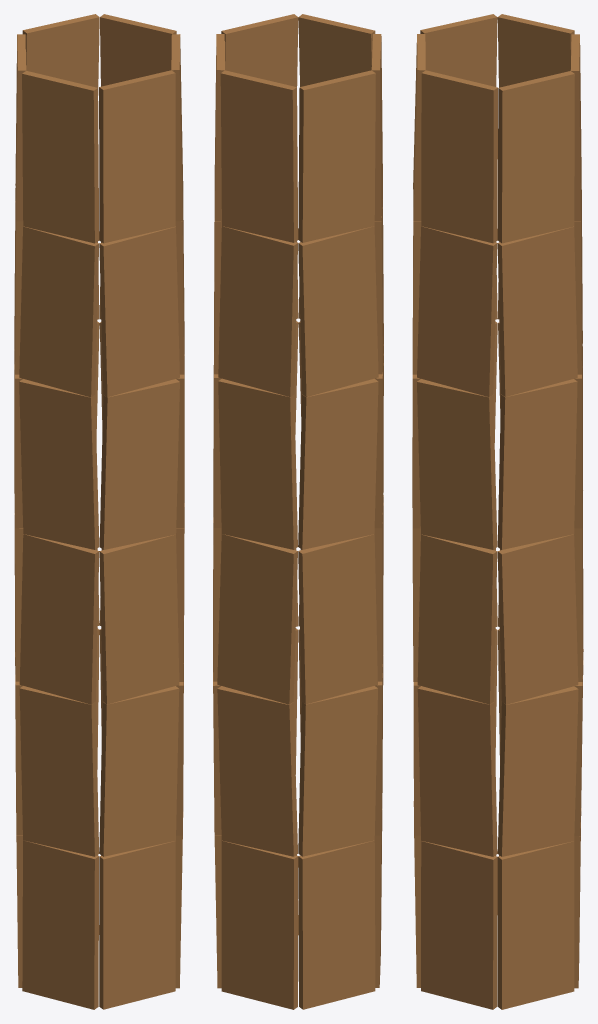
3 renders of one model, left to right at view 1: azimuth 30°, elevation 25°; view 2: azimuth 150°, elevation 25°; view 3: azimuth 270°, elevation 25°, orthographic.
Parts seen in each view (by area): view 1: Tile_29, Tile_23, Tile_27, Tile_28, Tile_26, Tile_25, Tile_22, Tile_21, Tile_20, Tile_19, Tile_24, Tile_18 (+14 smaller); view 2: Tile_17, Tile_11, Tile_15, Tile_8, Tile_16, Tile_9, Tile_14, Tile_10, Tile_13, Tile_7, Tile_12, Tile_6 (+15 smaller); view 3: Tile_35, Tile_5, Tile_3, Tile_2, Tile_33, Tile_1, Tile_34, Tile_4, Tile_0, Tile_32, Tile_31, Tile_30 (+14 smaller).
Boxes of the visible parts, left/top/right/bottom form: Tile_29: left=99, top=70, right=175, bottom=243; Tile_23: left=22, top=71, right=99, bottom=243; Tile_27: left=99, top=379, right=179, bottom=549; Tile_28: left=99, top=226, right=179, bottom=397; Tile_26: left=99, top=534, right=179, bottom=704; Tile_25: left=99, top=686, right=179, bottom=856; Tile_22: left=19, top=226, right=99, bottom=397; Tile_21: left=19, top=379, right=99, bottom=549; Tile_20: left=19, top=534, right=99, bottom=704; Tile_19: left=19, top=686, right=99, bottom=856; Tile_24: left=99, top=841, right=175, bottom=1009; Tile_18: left=22, top=840, right=98, bottom=1009; Tile_17: left=298, top=70, right=375, bottom=242; Tile_11: left=220, top=70, right=298, bottom=242; Tile_15: left=298, top=378, right=378, bottom=549; Tile_8: left=217, top=534, right=297, bottom=704; Tile_16: left=298, top=226, right=378, bottom=396; Tile_9: left=218, top=378, right=297, bottom=549; Tile_14: left=298, top=534, right=377, bottom=704; Tile_10: left=218, top=226, right=297, bottom=396; Tile_13: left=298, top=686, right=377, bottom=856; Tile_7: left=217, top=686, right=297, bottom=856; Tile_12: left=298, top=840, right=375, bottom=1009; Tile_6: left=221, top=840, right=298, bottom=1009; Tile_35: left=421, top=70, right=497, bottom=243; Tile_5: left=497, top=71, right=574, bottom=243; Tile_3: left=497, top=379, right=577, bottom=549; Tile_2: left=497, top=534, right=578, bottom=704; Tile_33: left=417, top=379, right=497, bottom=549; Tile_1: left=497, top=686, right=578, bottom=856; Tile_34: left=417, top=226, right=497, bottom=396; Tile_4: left=497, top=226, right=577, bottom=396; Tile_0: left=497, top=841, right=574, bottom=1009; Tile_32: left=417, top=534, right=497, bottom=704; Tile_31: left=417, top=686, right=497, bottom=856; Tile_30: left=421, top=841, right=497, bottom=1009.
Size of the model in its own units: 2.28 by 12.13 by 2.05.
